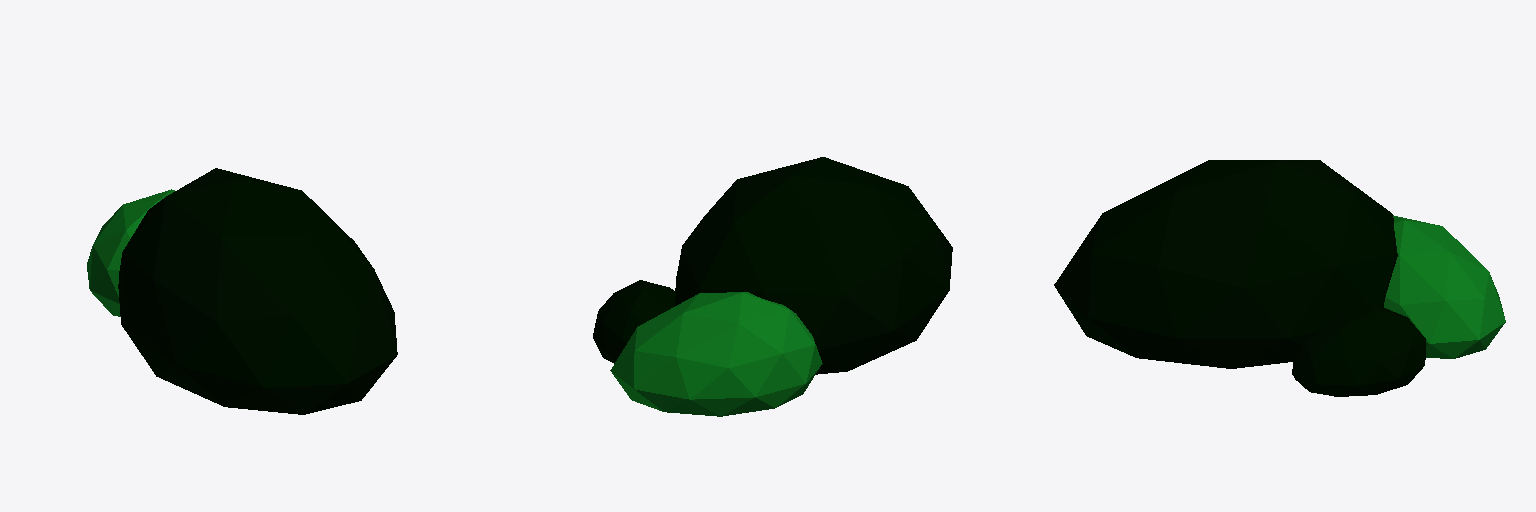
File: vegetaux_buisson1.obj
3 renders of one model, left to right at view 1: azimuth 30°, elevation 25°; view 2: azimuth 150°, elevation 25°; view 3: azimuth 270°, elevation 25°, orthographic.
Visible parts, largest first — view 1: Icosphere; view 2: Icosphere; view 3: Icosphere.
Part boxes in pixels (left/top/right/bottom): Icosphere: left=87, top=168, right=397, bottom=414; Icosphere: left=593, top=157, right=952, bottom=416; Icosphere: left=1054, top=160, right=1505, bottom=396.
Size of the model in its own units: 1.68 by 1.04 by 2.52.